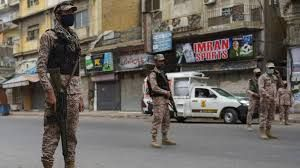gun: (47, 62, 71, 157), (158, 70, 181, 118)
uniform: (34, 1, 86, 166), (138, 40, 189, 156), (259, 59, 279, 141), (247, 63, 263, 129), (279, 70, 293, 128)
